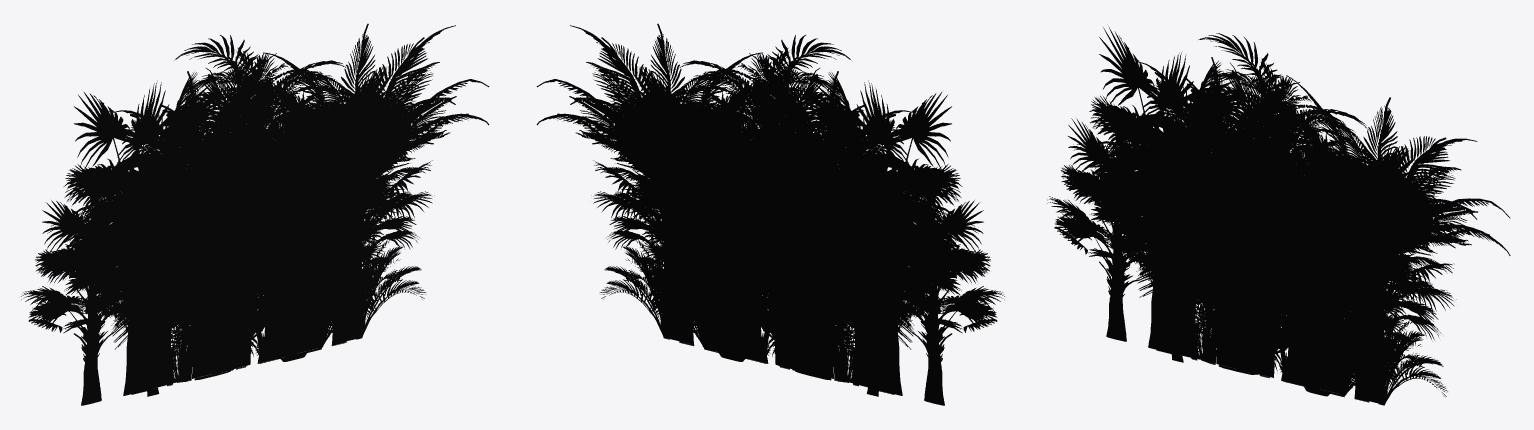
Rendered from MSH_PalmTrees_Imposters_ABCDEF.FBX.
3 renders of one model, left to right at view 1: azimuth 30°, elevation 25°; view 2: azimuth 150°, elevation 25°; view 3: azimuth 330°, elevation 25°, orthographic.
Parts seen in each view (by area): view 1: PalmTrees_Imposters_B_GEO, PalmTrees_Imposters_F_GEO, PalmTrees_Imposters_A_GEO, PalmTrees_Imposters_C_GEO, PalmTrees_Imposters_E_GEO, PalmTrees_Imposters_D_GEO; view 2: PalmTrees_Imposters_C_GEO, PalmTrees_Imposters_E_GEO, PalmTrees_Imposters_A_GEO, PalmTrees_Imposters_B_GEO, PalmTrees_Imposters_D_GEO, PalmTrees_Imposters_F_GEO; view 3: PalmTrees_Imposters_B_GEO, PalmTrees_Imposters_F_GEO, PalmTrees_Imposters_A_GEO, PalmTrees_Imposters_C_GEO, PalmTrees_Imposters_E_GEO, PalmTrees_Imposters_D_GEO.
Part boxes in pixels (bbox=[...]): PalmTrees_Imposters_B_GEO: bbox=[77, 35, 434, 388]; PalmTrees_Imposters_F_GEO: bbox=[89, 117, 413, 390]; PalmTrees_Imposters_A_GEO: bbox=[21, 23, 489, 405]; PalmTrees_Imposters_C_GEO: bbox=[47, 56, 450, 395]; PalmTrees_Imposters_E_GEO: bbox=[62, 103, 430, 394]; PalmTrees_Imposters_D_GEO: bbox=[91, 160, 426, 389]; PalmTrees_Imposters_C_GEO: bbox=[575, 57, 978, 395]; PalmTrees_Imposters_E_GEO: bbox=[595, 139, 963, 394]; PalmTrees_Imposters_A_GEO: bbox=[536, 23, 1004, 405]; PalmTrees_Imposters_B_GEO: bbox=[591, 35, 912, 387]; PalmTrees_Imposters_D_GEO: bbox=[599, 156, 936, 386]; PalmTrees_Imposters_F_GEO: bbox=[612, 113, 898, 387]; PalmTrees_Imposters_B_GEO: bbox=[1103, 33, 1456, 403]; PalmTrees_Imposters_F_GEO: bbox=[1116, 149, 1435, 399]; PalmTrees_Imposters_A_GEO: bbox=[1047, 75, 1510, 401]; PalmTrees_Imposters_C_GEO: bbox=[1073, 26, 1471, 397]; PalmTrees_Imposters_E_GEO: bbox=[1088, 102, 1452, 402]; PalmTrees_Imposters_D_GEO: bbox=[1116, 164, 1447, 405].
Size of the model in its own units: 964 by 665 by 0.00103.
